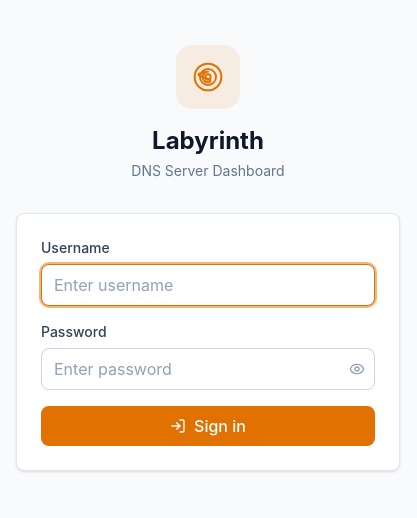
Test: LoginPage › keeps a 401 on the page and shows an inline error
Type "admin" into the field labelled "Username".
click(208, 285); type("admin")  # box top-left (41, 264), bottom-right (375, 306)
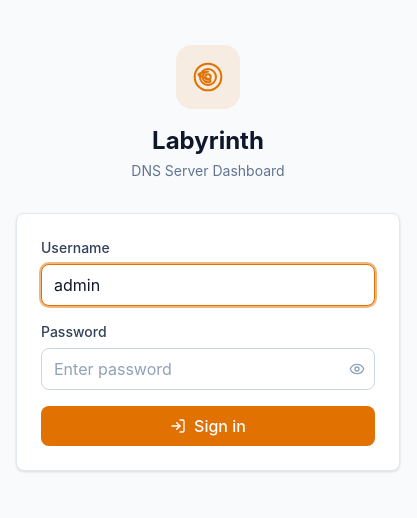
Type "wrongpass" into the password field labelled "Password".
click(208, 369); type("wrongpass")  # box top-left (41, 348), bottom-right (375, 390)
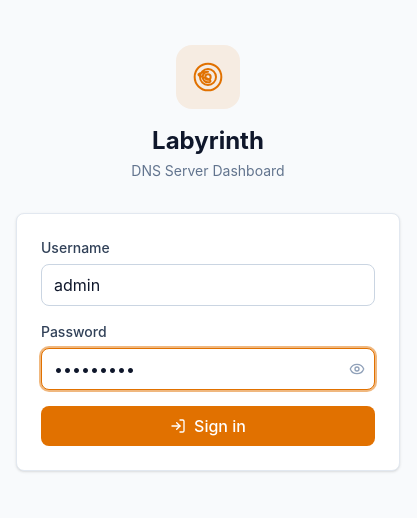
Click the button "Sign in".
click(208, 426)  # box top-left (41, 406), bottom-right (375, 446)
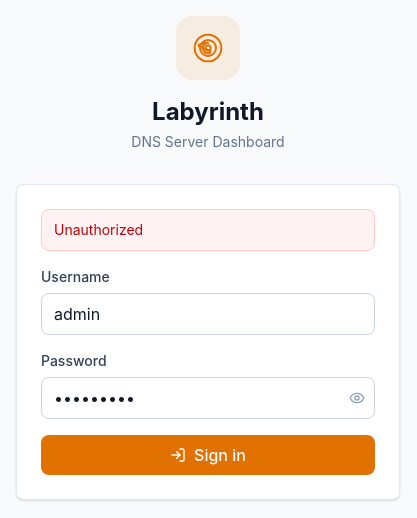
Result: the text "Unauthorized" is shown at top-left (41, 209), bottom-right (375, 251)
